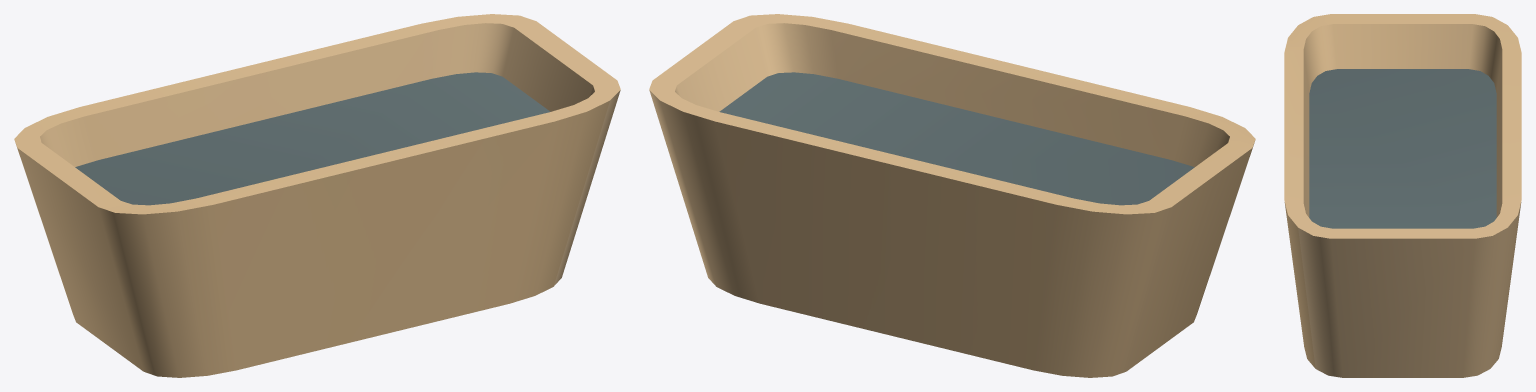
Rendered from Bath.fbx.
The picture shows the model from 3 angles, left to right: view 1: azimuth 30°, elevation 25°; view 2: azimuth 150°, elevation 25°; view 3: azimuth 270°, elevation 25°; orthographic projection. The views are drawn at different scales.
Parts seen in each view (by area): view 1: Bath; view 2: Bath; view 3: Bath.
Boxes of the visible parts, <box> form: Bath: <box>14,14,620,377</box>; Bath: <box>649,14,1255,377</box>; Bath: <box>1284,14,1521,377</box>.
Bounding box in the file's own units: 171 × 57.45 × 76.37.
